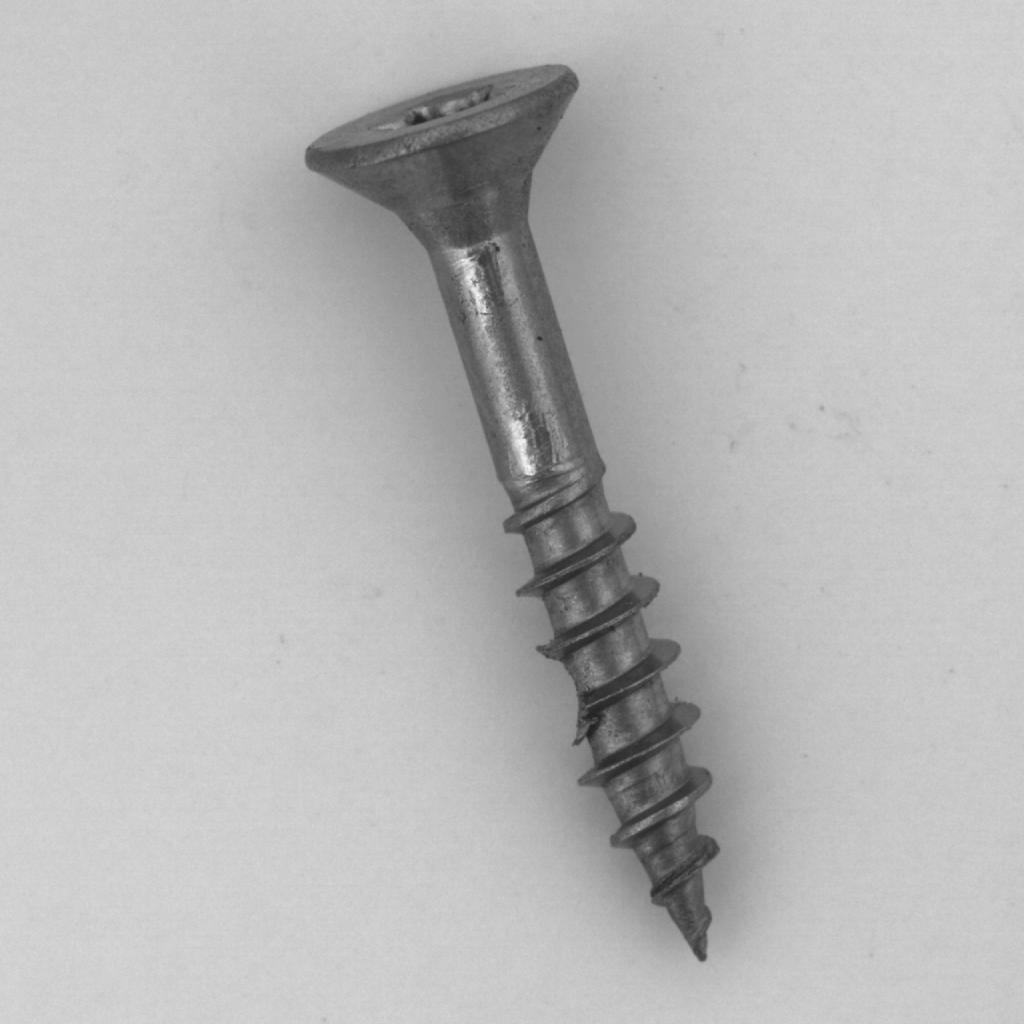thread_side: (275, 49, 775, 983)
